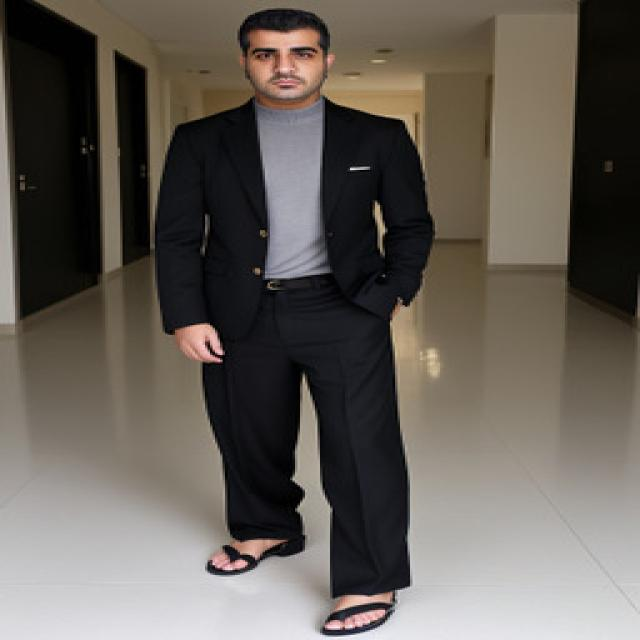Ai human 2: (132, 3, 436, 638)
